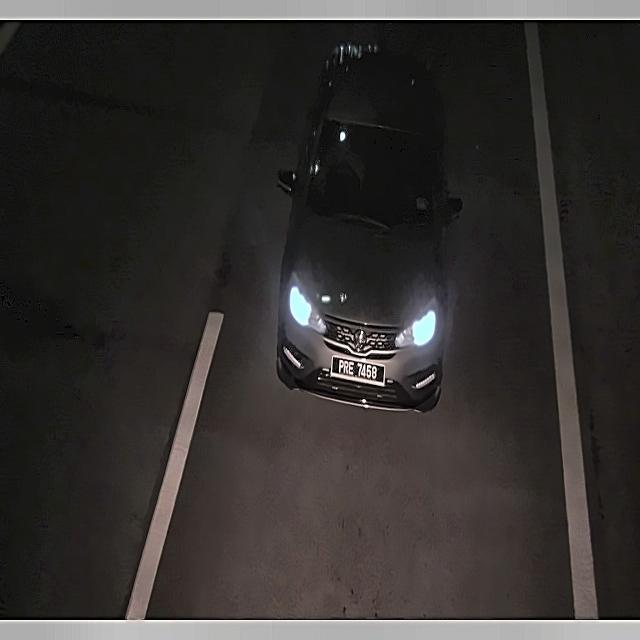car: (328, 347, 392, 392)
